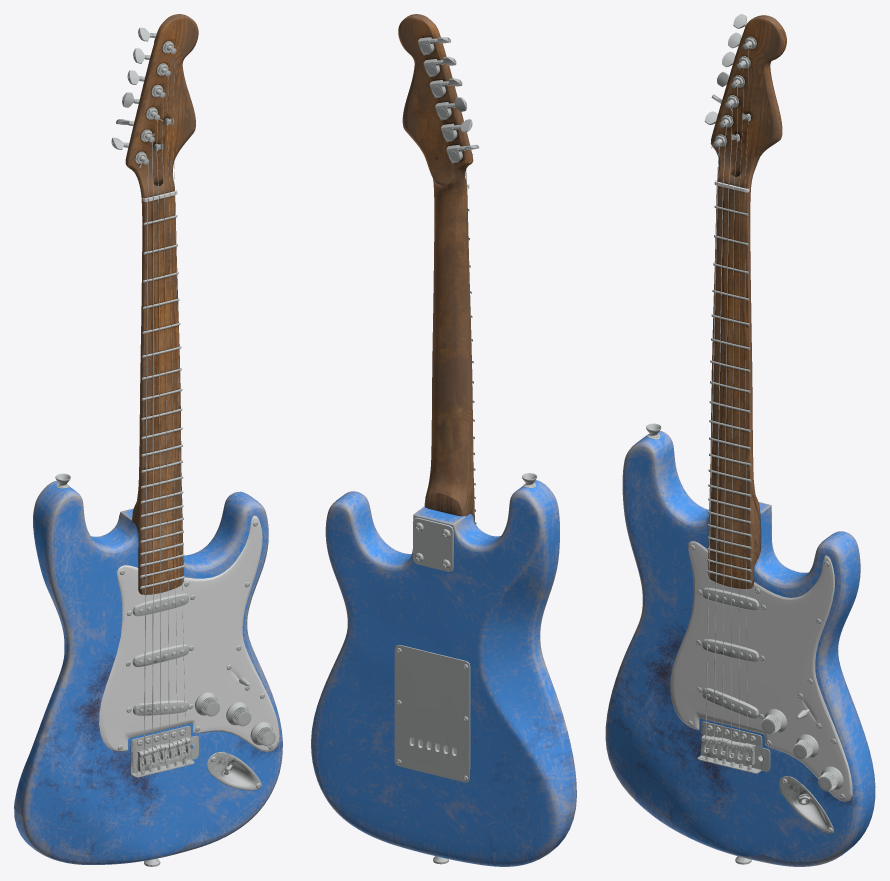
File: Old electric guitar.fbx
The picture shows the model from 3 angles, left to right: view 1: azimuth 30°, elevation 25°; view 2: azimuth 150°, elevation 25°; view 3: azimuth 330°, elevation 25°; orthographic projection.
Visible parts, largest first — view 1: body, fretboard, scratchplate, frets, pickups, tuning_pegs, string_entry_point, cable_port, string_holders, e_string, big_E_string, d_string (+2 smaller); view 2: body, fretboard, backplates, tuning_pegs; view 3: body, fretboard, scratchplate, frets, pickups, tuning_pegs, string_entry_point, cable_port, string_holders, big_E_string, e_string, d_string (+2 smaller).
Boxes of the visible parts, x1,y1,x2,y2 form: body: (14, 480, 282, 864); fretboard: (125, 14, 198, 594); scratchplate: (99, 515, 279, 752); frets: (140, 215, 184, 588); pickups: (132, 593, 188, 715); tuning_pegs: (111, 27, 176, 164); string_entry_point: (130, 726, 198, 777); cable_port: (207, 752, 261, 790); string_holders: (137, 737, 190, 771); e_string: (147, 134, 154, 754); big_E_string: (139, 157, 148, 757); d_string: (152, 113, 164, 751); body: (311, 480, 576, 866); fretboard: (398, 14, 474, 522); backplates: (394, 517, 470, 782); tuning_pegs: (418, 37, 479, 163); body: (605, 431, 875, 866); fretboard: (708, 15, 786, 588); scratchplate: (670, 541, 852, 801); frets: (707, 205, 751, 582); pickups: (702, 587, 759, 718); tuning_pegs: (704, 14, 756, 147); string_entry_point: (697, 721, 770, 773); cable_port: (779, 776, 833, 833); string_holders: (701, 735, 755, 769); big_E_string: (705, 140, 720, 743); e_string: (714, 120, 726, 744); d_string: (722, 101, 732, 745).
Bounding box in the file's own units: 19.54 × 61.08 × 4.36.
Materials: 4 (3 with a texture image).
